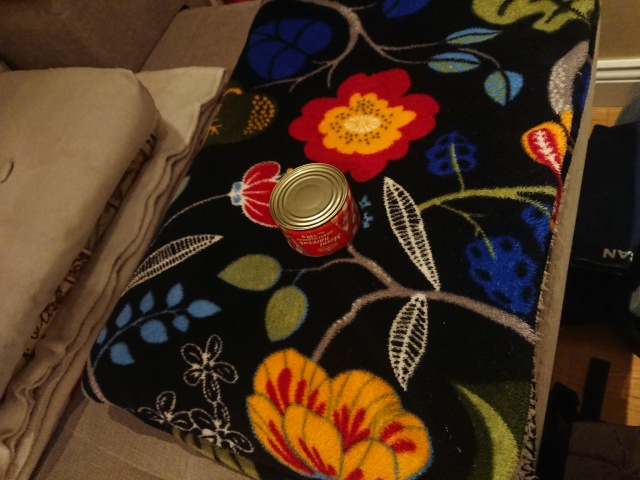Podravka Luncheon Meat 150g: (267, 161, 363, 260)
